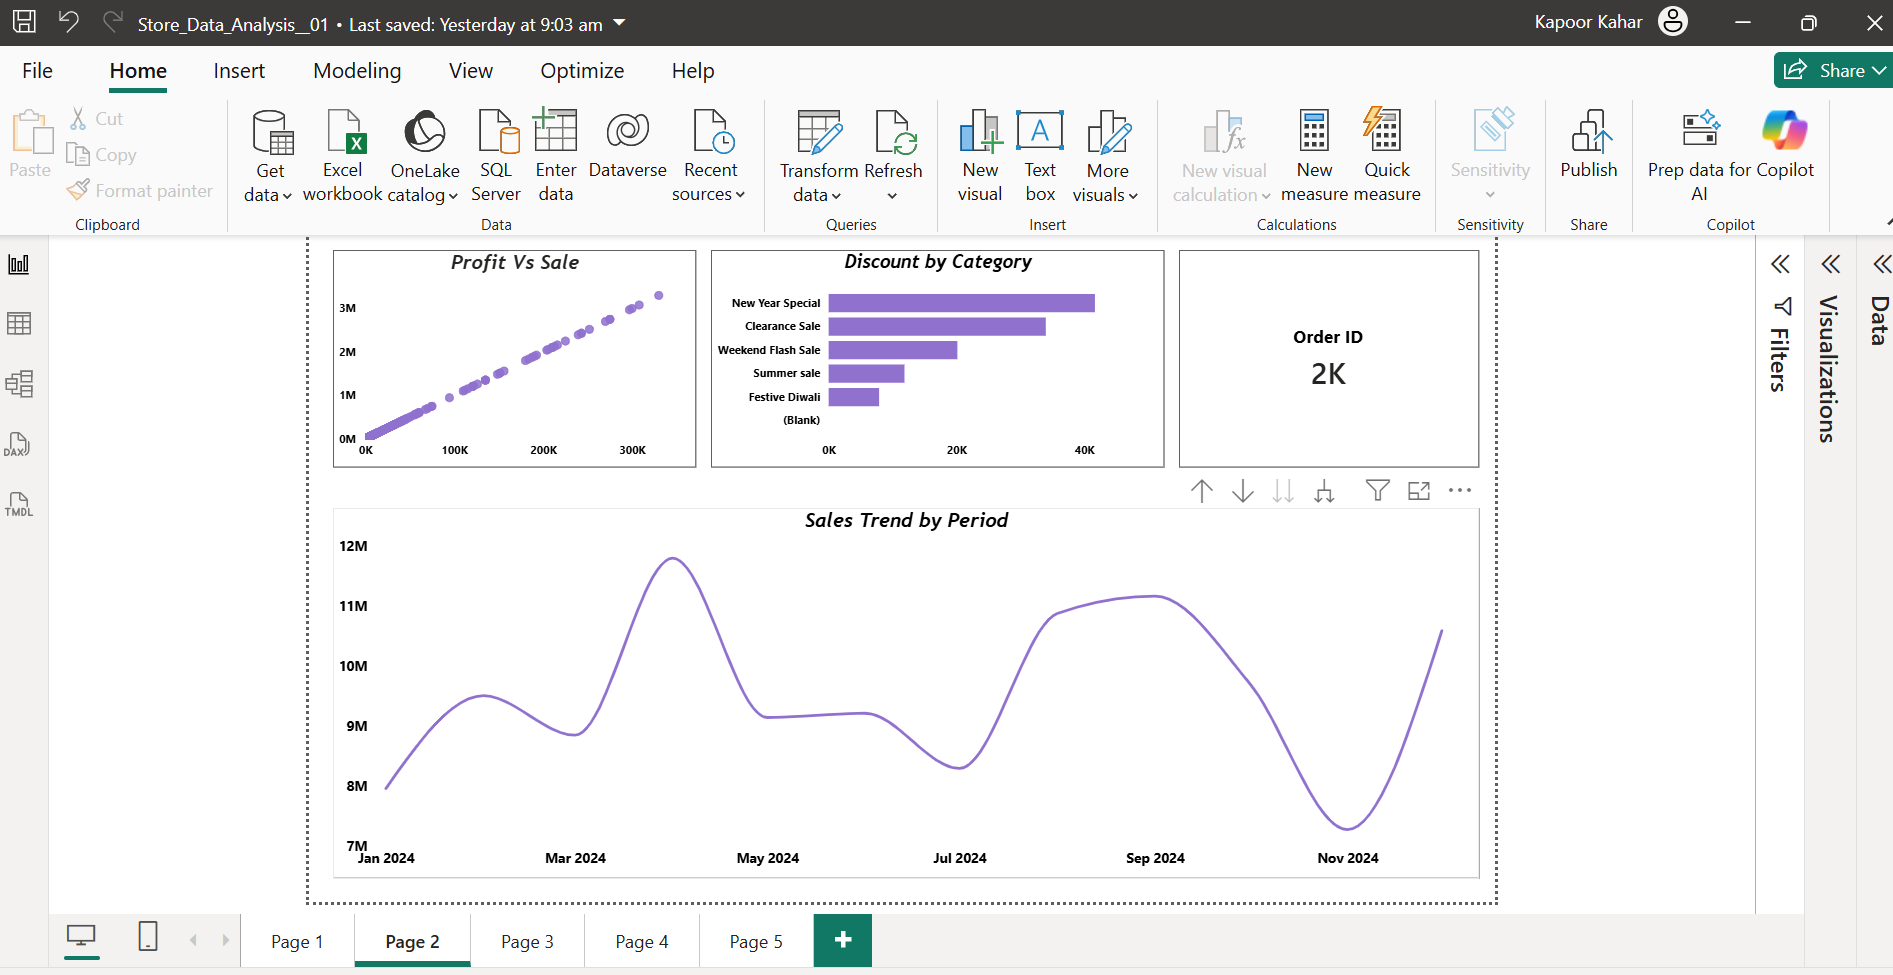

The dashboard page shown, as its layout file describes it:
{"tool":"powerbi","page":{"name":"Page 2","canvas":[1280,720],"ordinal":1},"visuals":[{"type":"barChart","title":"Discount  by Category","fields":{"Category":["Promotion_Table.Promotion_Name"],"Y":["Avg(Sales_Table.Discount Value)"]},"box":[434,16.2,489,234.8],"z":0},{"type":"scatterChart","title":"Profit Vs Sale","fields":{"X":["Sum(Sales_Table.Profit)"],"Y":["Sum(Sales_Table.Net Sale)"],"Category":["Sales_Table.Profit"]},"box":[25.9,16.2,391.9,234.8],"z":1000},{"type":"cardVisual","fields":{"Data":["CountNonNull(Sales_Table.Order ID)"]},"box":[939.2,16.2,323.8,234.8],"z":2000},{"type":"lineChart","title":"Sales Trend by Period","fields":{"Y":["Sum(Sales_Table.Net Sale)"],"Category":["Date Table 1.Date.Variation.Date Hierarchy.Year","Date Table 1.Date.Variation.Date Hierarchy.Quarter","Date Table 1.Date.Variation.Date Hierarchy.Month","Date Table 1.Date.Variation.Date Hierarchy.Day"]},"box":[25.9,294.7,1237.1,399.9],"z":3000}]}

Visuals, with their boxes on the page's 1280x720 design canvas (x1, y1, x2, y2). These are canvas units, not pixel positions in the 1893x975 screenshot, which may show the page scaled, cropped or inside an application window:
"Discount  by Category" barChart: 434,16,923,251
"Profit Vs Sale" scatterChart: 26,16,418,251
cardVisual - CountNonNull(Sales_Table.Order ID): 939,16,1263,251
"Sales Trend by Period" lineChart: 26,295,1263,695
